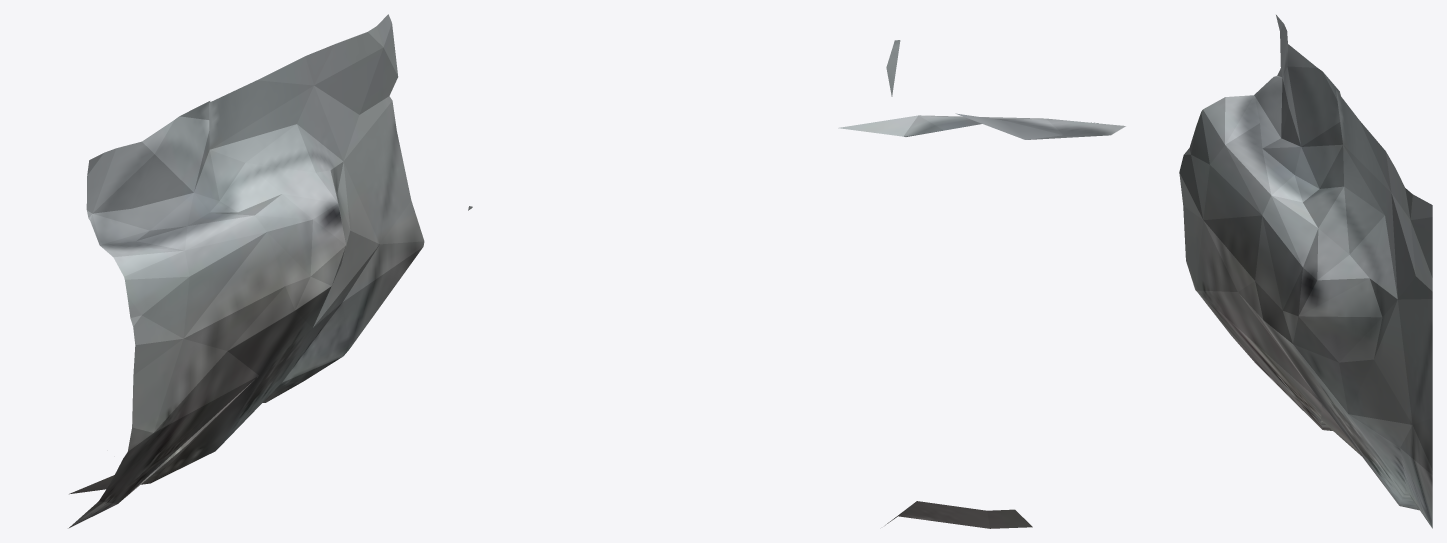
The picture shows the model from 3 angles, left to right: view 1: azimuth 30°, elevation 25°; view 2: azimuth 150°, elevation 25°; view 3: azimuth 270°, elevation 25°; orthographic projection. The views are drawn at different scales.
Size of the model in its own units: 0.2912 by 0.2403 by 0.1332.
Materials: 1 (1 with a texture image).
